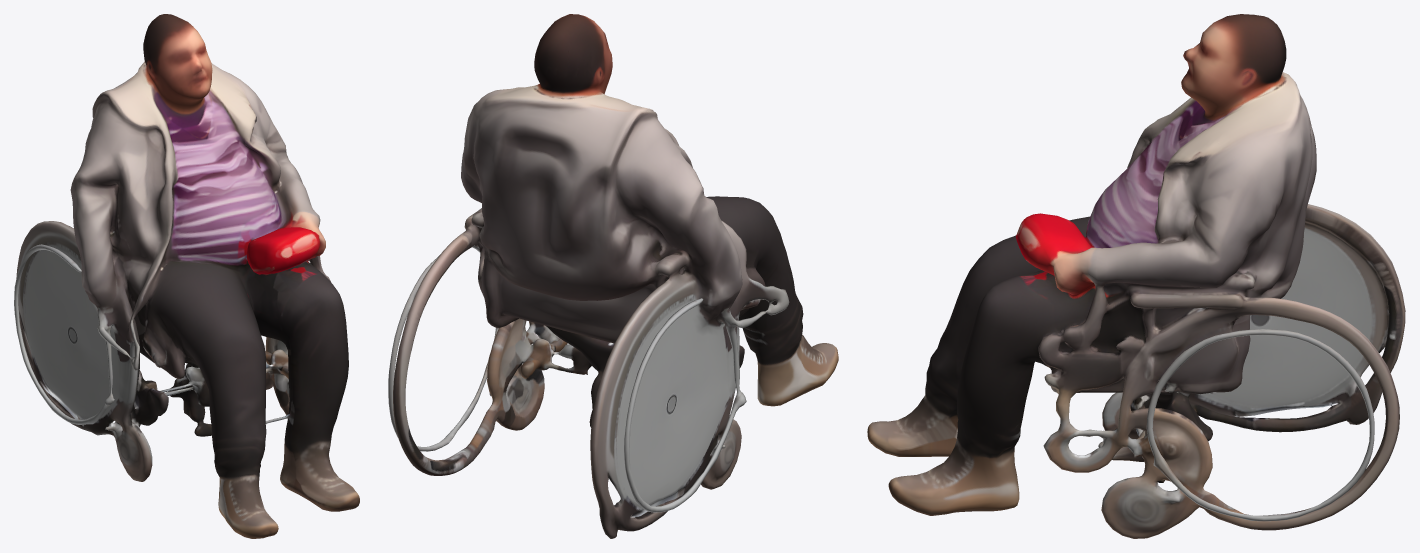
Rendered from person_in_a_wheelchair.glb.
3 renders of one model, left to right at view 1: azimuth 30°, elevation 25°; view 2: azimuth 150°, elevation 25°; view 3: azimuth 270°, elevation 25°, orthographic. The views are drawn at different scales.
Visible parts, largest first — view 1: Object_2; view 2: Object_2; view 3: Object_2.
Part boxes in pixels (x1,y1,x2,y2): Object_2: [14, 14, 359, 538]; Object_2: [388, 14, 838, 538]; Object_2: [867, 14, 1405, 538].
Size of the model in its own units: 1.06 by 1.89 by 1.9.
1 material, 1 textured.
